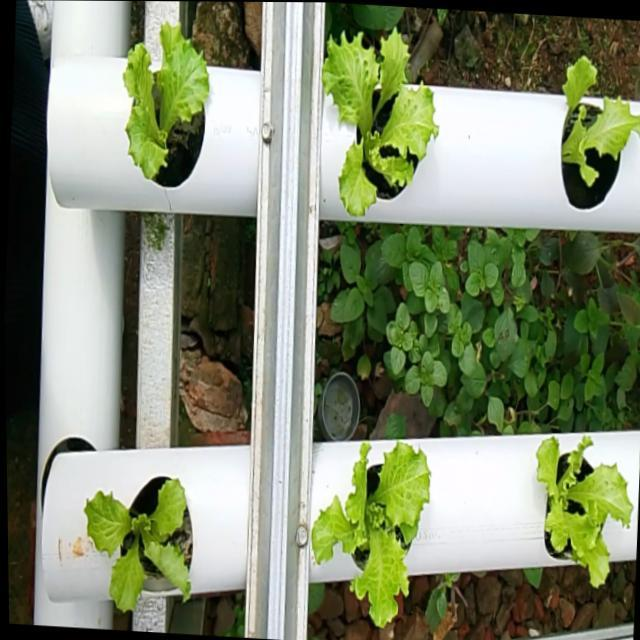Baby: (321, 15, 437, 212), (309, 435, 428, 621), (82, 468, 191, 605), (534, 432, 629, 583), (122, 16, 208, 181), (559, 54, 640, 207)
